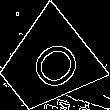O_SW: (15, 32, 80, 97)
